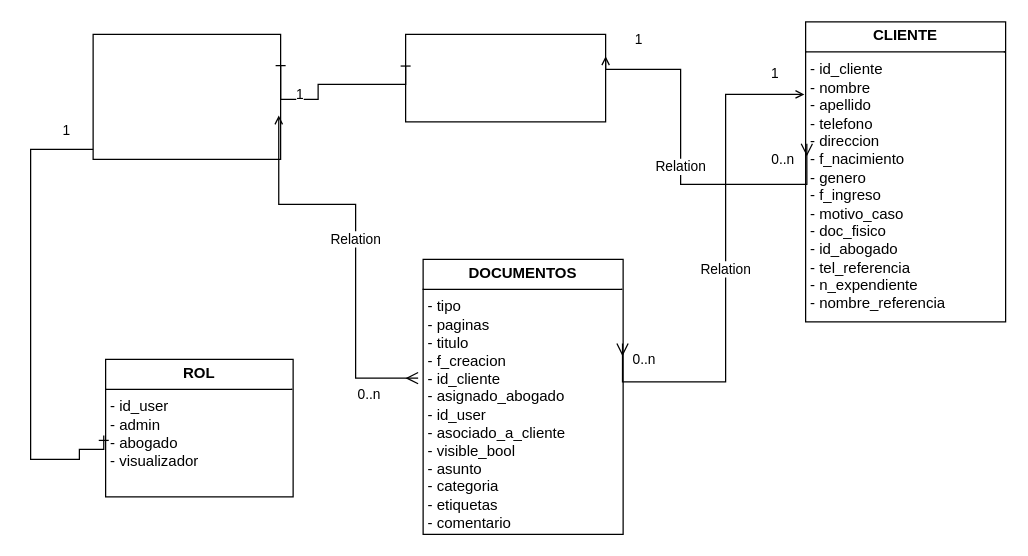
This 1028x556 diagram has some shape labels left out. The shapes that lost their labels are listed below. From the top down, each one's centre as x and y in pixels, then its label:
At (x=186, y=96): "USUARIO - id_user - passwd - last_loging - rol_id".
At (x=505, y=77): "ABOGADO - id_user".
